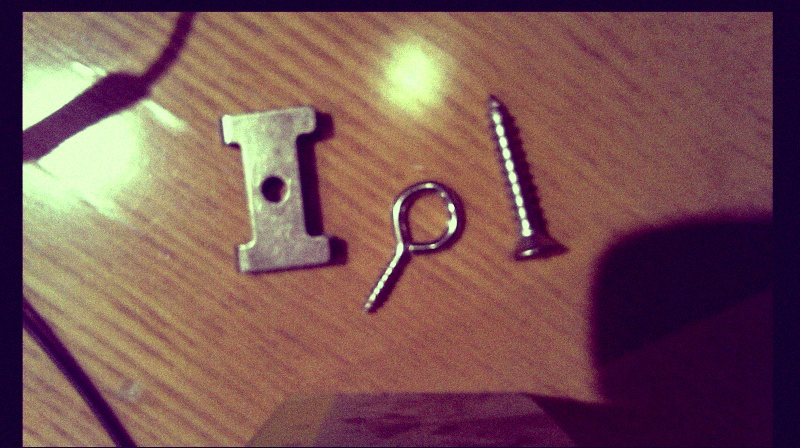O001: (356, 177, 468, 320)
O002: (218, 104, 336, 279)
S001: (479, 92, 561, 266)
